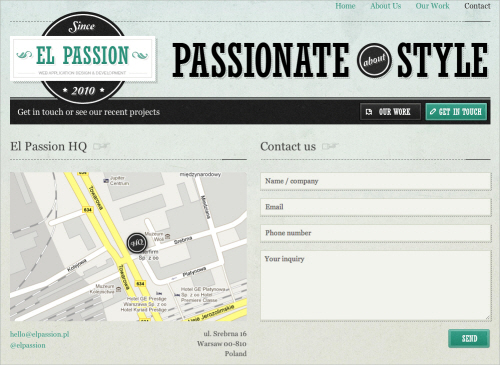button: (359, 102, 422, 121), (425, 102, 487, 121), (448, 328, 490, 349)
field: (260, 250, 492, 322), (260, 198, 492, 217), (260, 224, 492, 243), (259, 173, 492, 191)
